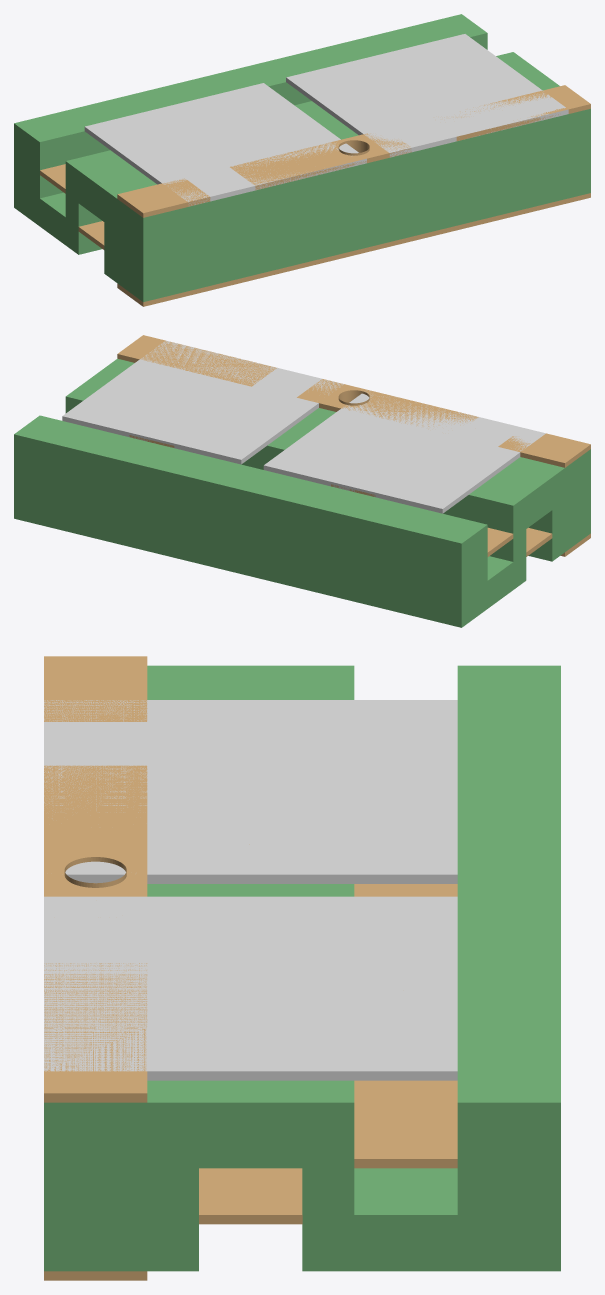
The model's file is board.glb.
3 views of the same model, one above another, from view 1: azimuth 30°, elevation 25°; view 2: azimuth 150°, elevation 25°; view 3: azimuth 270°, elevation 25° (orthographic). The views are drawn at different scales.
Visible parts, largest first — view 1: Substrate_Layer_0_Z4, U2, U1, Substrate_Layer_0_Z0, Substrate_Layer_0_Z2, Substrate_Layer_1_Z1, Substrate_Layer_0_Z1, Substrate_Layer_0_Z3, Substrate_Layer_4_Z0, Substrate_Layer_1_Z0, Substrate_Layer_3_Z0, Substrate_Layer_2_Z0; view 2: Substrate_Layer_0_Z4, U1, U2, Substrate_Layer_0_Z0, Substrate_Layer_0_Z2, Substrate_Layer_1_Z1, Substrate_Layer_0_Z1, Substrate_Layer_0_Z3, Substrate_Layer_2_Z0, Substrate_Layer_3_Z0; view 3: Substrate_Layer_0_Z4, U2, U1, Substrate_Layer_1_Z1, Substrate_Layer_0_Z0, Substrate_Layer_0_Z2, Substrate_Layer_2_Z0, Substrate_Layer_0_Z1, Substrate_Layer_3_Z0, Substrate_Layer_0_Z3, Substrate_Layer_4_Z0.
Boxes of the visible parts, box(x1,y1,x2,y2) form: Substrate_Layer_0_Z4: box(14, 14, 590, 245); U2: box(286, 34, 568, 157); U1: box(84, 83, 366, 206); Substrate_Layer_0_Z0: box(14, 169, 590, 302); Substrate_Layer_0_Z2: box(14, 141, 590, 273); Substrate_Layer_1_Z1: box(117, 85, 590, 215); Substrate_Layer_0_Z1: box(14, 165, 590, 278); Substrate_Layer_0_Z3: box(14, 137, 590, 250); Substrate_Layer_4_Z0: box(117, 193, 590, 306); Substrate_Layer_1_Z0: box(117, 106, 590, 217); Substrate_Layer_3_Z0: box(78, 221, 104, 249); Substrate_Layer_2_Z0: box(40, 164, 65, 193); Substrate_Layer_0_Z4: box(14, 358, 590, 571); U1: box(263, 390, 545, 513); U2: box(62, 340, 343, 464); Substrate_Layer_0_Z0: box(14, 495, 590, 627); Substrate_Layer_0_Z2: box(14, 467, 590, 599); Substrate_Layer_1_Z1: box(117, 335, 590, 465); Substrate_Layer_0_Z1: box(14, 490, 590, 604); Substrate_Layer_0_Z3: box(14, 462, 590, 576); Substrate_Layer_2_Z0: box(487, 527, 513, 556); Substrate_Layer_3_Z0: box(526, 527, 552, 556); Substrate_Layer_0_Z4: box(44, 665, 560, 1158); U2: box(44, 896, 457, 1080); U1: box(44, 700, 457, 883); Substrate_Layer_1_Z1: box(44, 656, 147, 1097); Substrate_Layer_0_Z0: box(44, 1224, 560, 1271); Substrate_Layer_0_Z2: box(44, 1168, 560, 1214); Substrate_Layer_2_Z0: box(354, 884, 457, 1168); Substrate_Layer_0_Z1: box(44, 1168, 560, 1224); Substrate_Layer_3_Z0: box(199, 1168, 302, 1224); Substrate_Layer_0_Z3: box(44, 1159, 560, 1168); Substrate_Layer_4_Z0: box(44, 1271, 147, 1280).
Bounding box in the file's own units: 0.01 × 0.00205 × 0.005.
